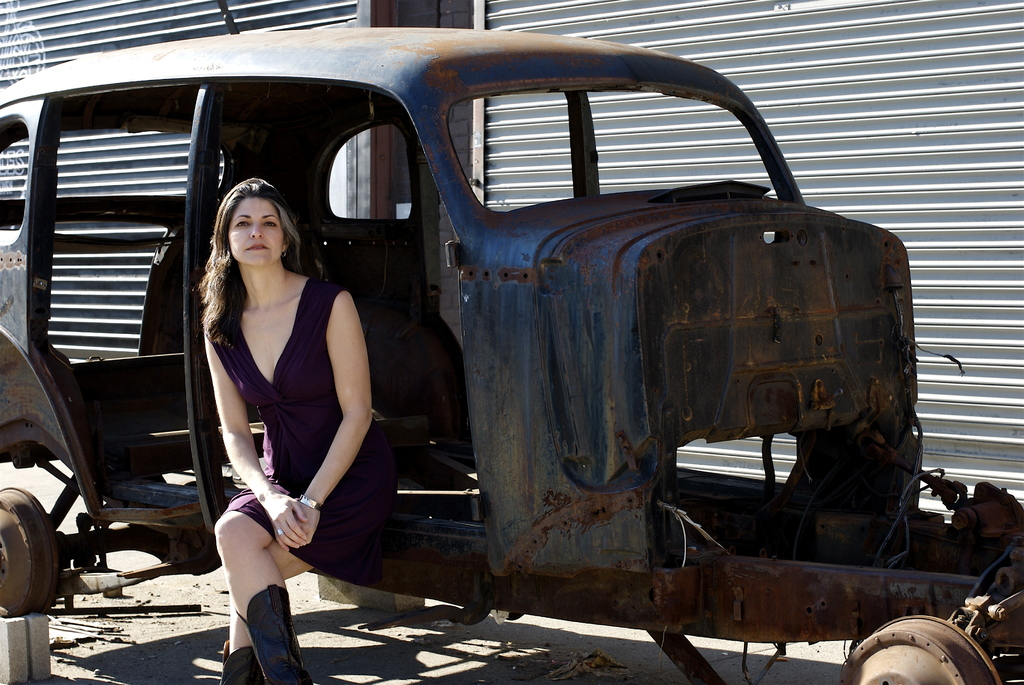Car: (0, 31, 864, 679)
